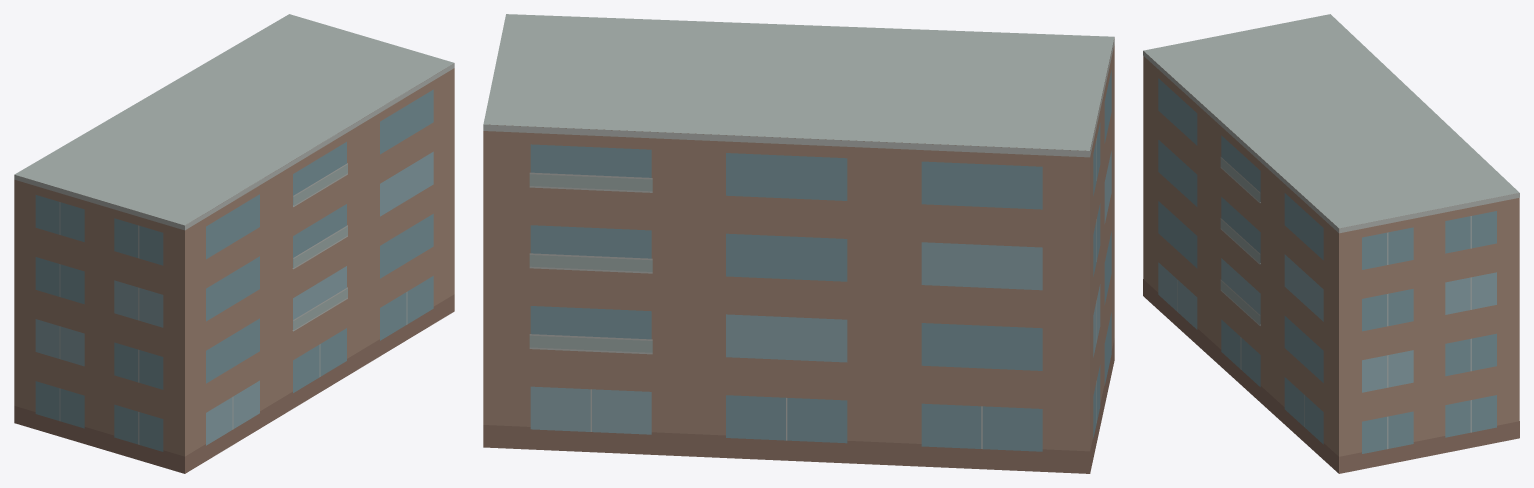
Rendered from residential-9cd6e4de-0aa7-4516-86eb-9285396e04fc.glb.
3 renders of one model, left to right at view 1: azimuth 30°, elevation 25°; view 2: azimuth 150°, elevation 25°; view 3: azimuth 270°, elevation 25°, orthographic. The views are drawn at different scales.
Visible parts, largest first — view 1: residential-9cd6e4de-0aa7-4516-86eb-9285396e04fc.tmp; view 2: residential-9cd6e4de-0aa7-4516-86eb-9285396e04fc.tmp; view 3: residential-9cd6e4de-0aa7-4516-86eb-9285396e04fc.tmp.
Boxes of the visible parts, box(x1,y1,x2,y2) form: residential-9cd6e4de-0aa7-4516-86eb-9285396e04fc.tmp: box(14, 14, 454, 473); residential-9cd6e4de-0aa7-4516-86eb-9285396e04fc.tmp: box(483, 14, 1114, 473); residential-9cd6e4de-0aa7-4516-86eb-9285396e04fc.tmp: box(1143, 14, 1519, 473).
Size of the model in its own units: 22.87 by 12.2 by 16.98.
